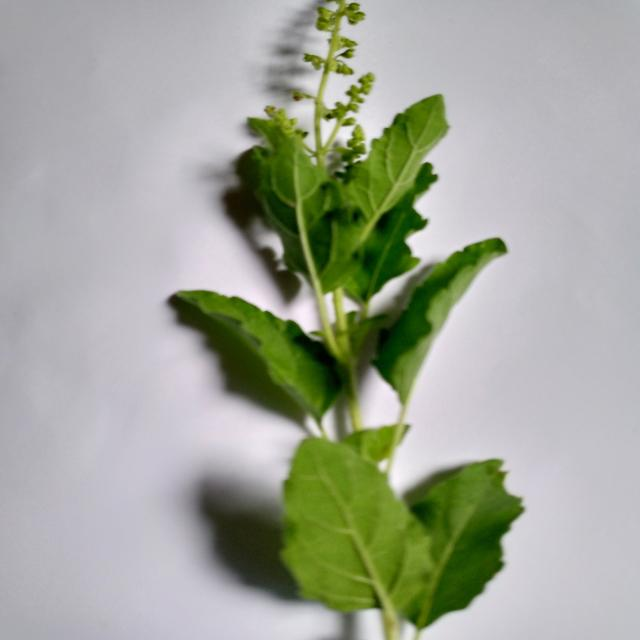tulsi: (163, 0, 531, 640)
